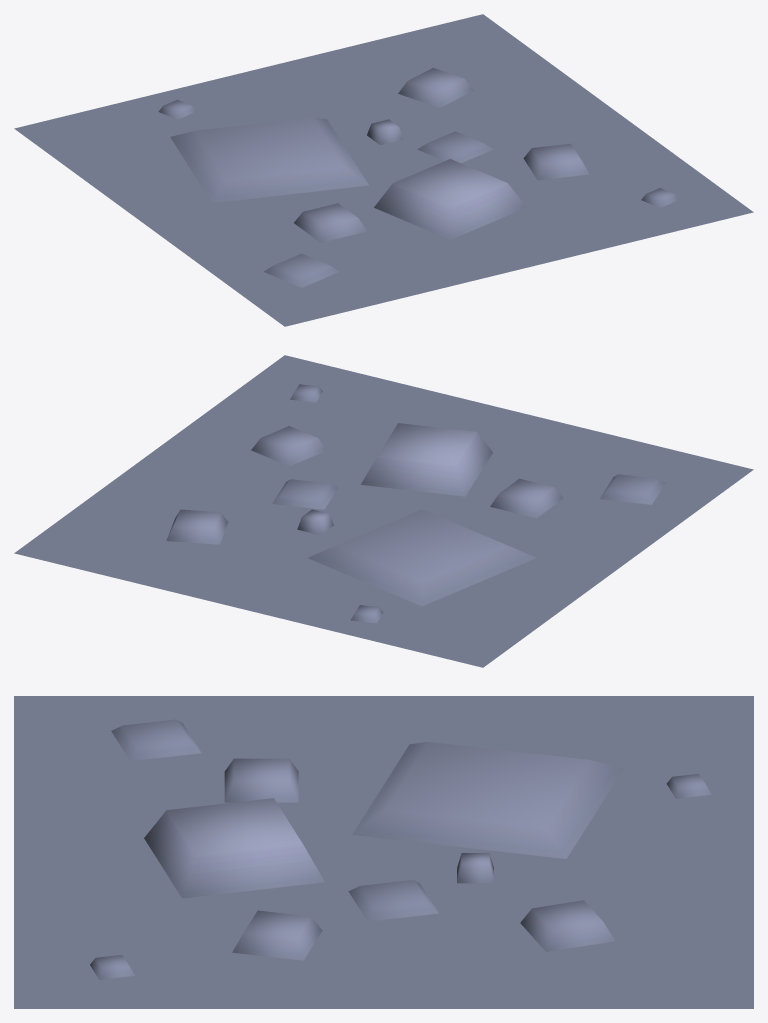
The model's file is floor-detail.glb.
3 renders of one model, top to bottom at view 1: azimuth 30°, elevation 25°; view 2: azimuth 150°, elevation 25°; view 3: azimuth 270°, elevation 25°, orthographic. The views are drawn at different scales.
Visible parts, largest first — view 1: floor-detail; view 2: floor-detail; view 3: floor-detail.
Part boxes in pixels (bbox=[...]): floor-detail: bbox=[14, 14, 753, 326]; floor-detail: bbox=[14, 355, 753, 667]; floor-detail: bbox=[14, 696, 753, 1008].
Bounding box in the file's own units: 1 × 0.05 × 1.
Materials: 1 (1 with a texture image).
